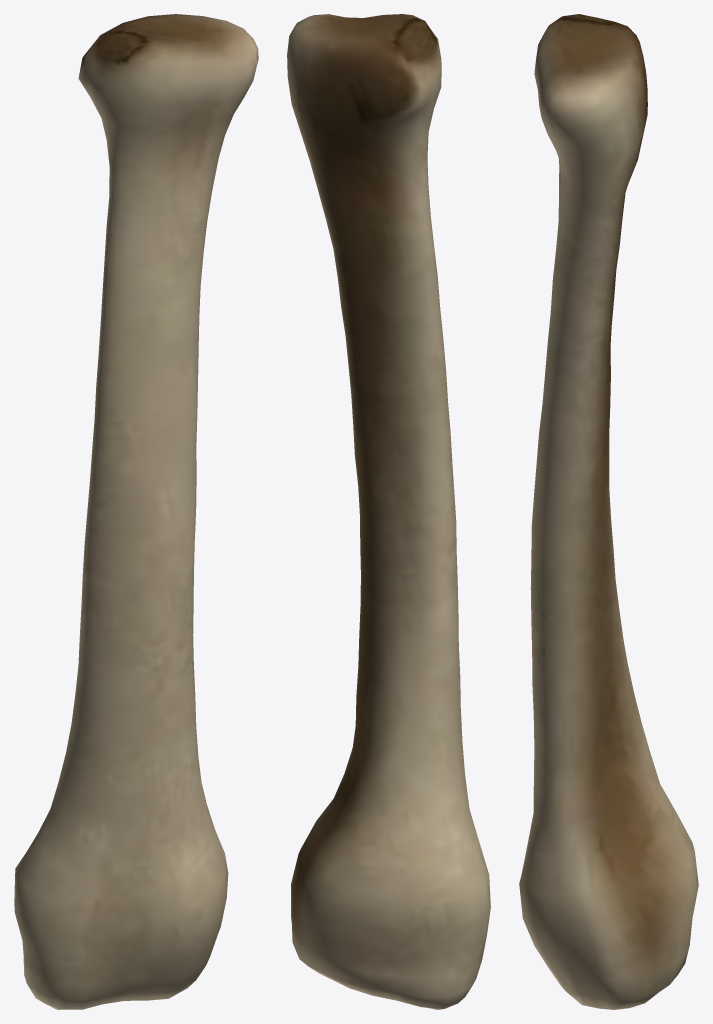
Rendered from Radius.glb.
3 renders of one model, left to right at view 1: azimuth 30°, elevation 25°; view 2: azimuth 150°, elevation 25°; view 3: azimuth 270°, elevation 25°, orthographic. The views are drawn at different scales.
Visible parts, largest first — view 1: polySurface3; view 2: polySurface3; view 3: polySurface3.
Part boxes in pixels (x1=…): polySurface3: x1=14, y1=14, x2=258, y2=1009; polySurface3: x1=287, y1=14, x2=490, y2=1009; polySurface3: x1=519, y1=14, x2=698, y2=1009.
Bounding box in the file's own units: 25.43 × 111 × 18.67.
1 material, 1 textured.
